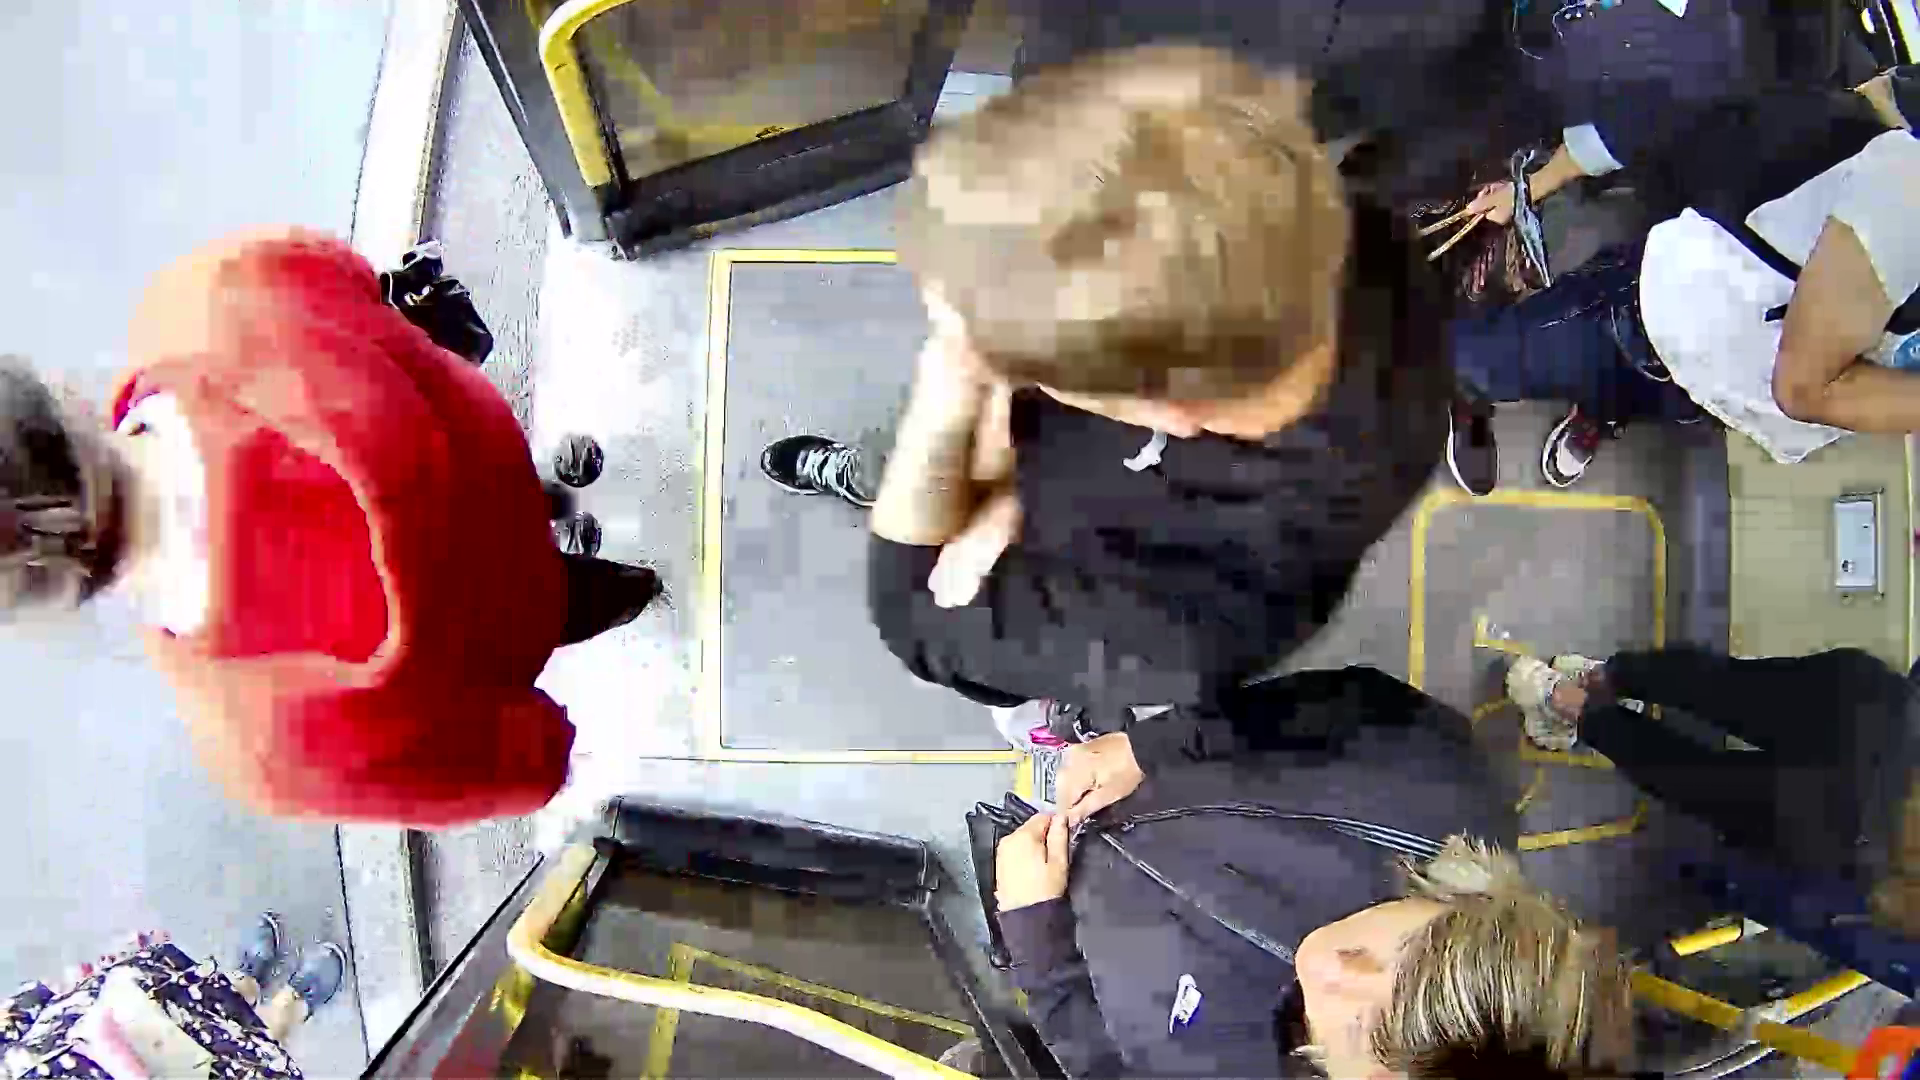person: (736, 96, 1566, 656), (7, 219, 604, 791), (906, 732, 1709, 1069)
